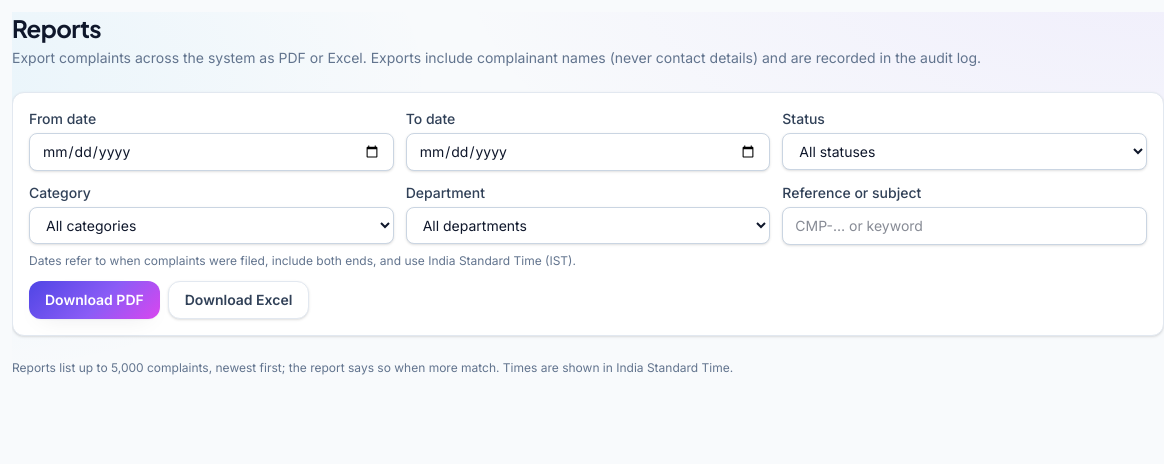
Test case: admins can filter by department and download Excel
Select "Sewerage Dept" in the dropdown labelled "Department" at (588, 226), box [406, 207, 770, 244]
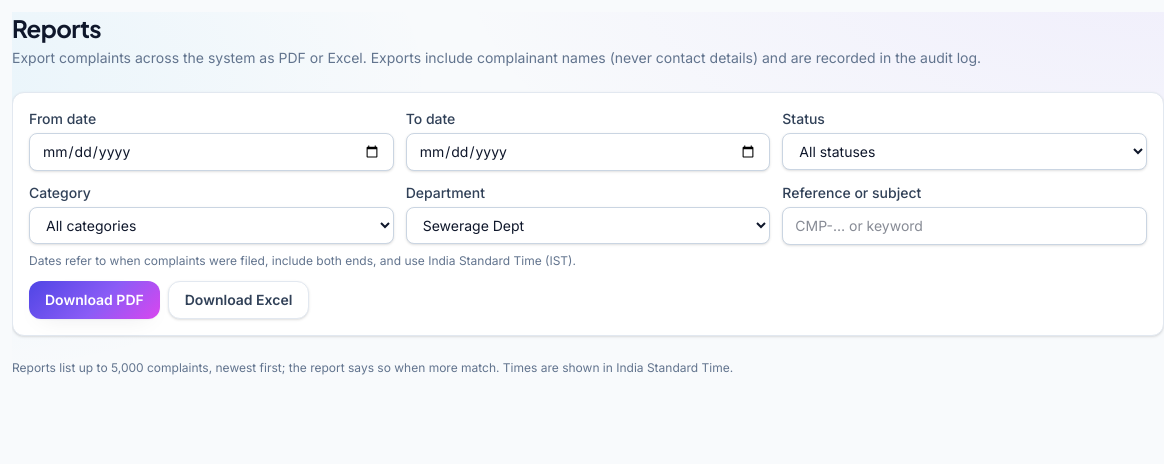
Click the button "Download Excel" at (239, 300), box [168, 281, 309, 319]
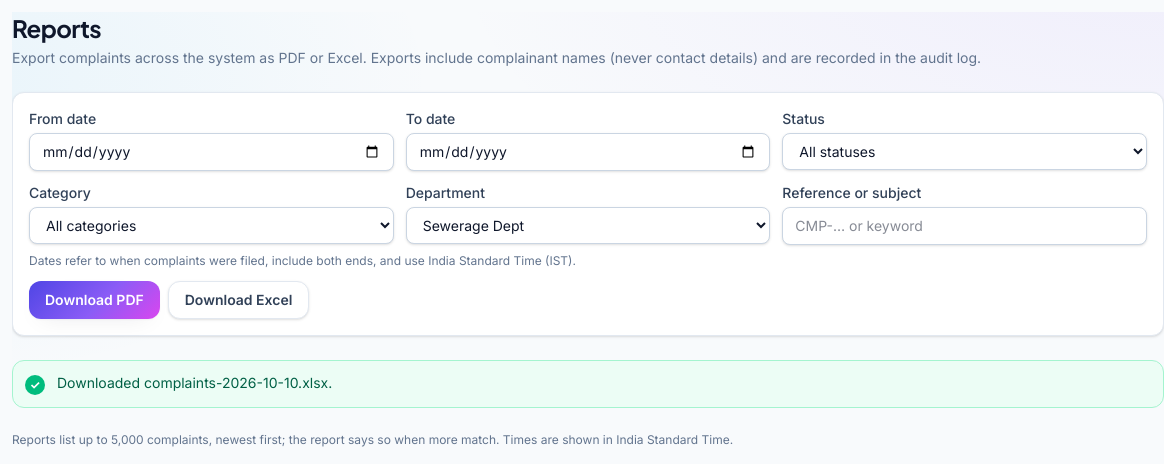
Result: the text "Downloaded complaints-2026-10-10.xlsx." is shown at [57, 374, 332, 391]
